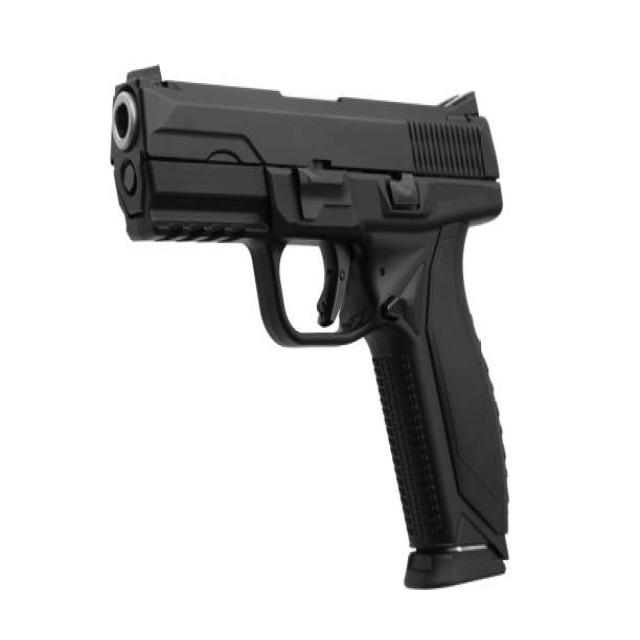pistol: (102, 68, 519, 596)
